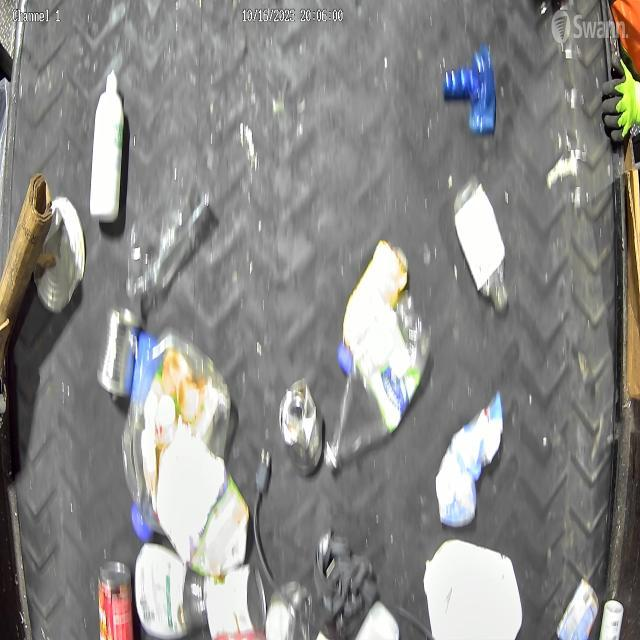can: (32, 194, 86, 314), (202, 562, 267, 640), (278, 376, 324, 476), (96, 302, 142, 398), (98, 557, 135, 640)
milk_jug: (422, 536, 524, 640)
plastic_bottle: (323, 294, 432, 472)
